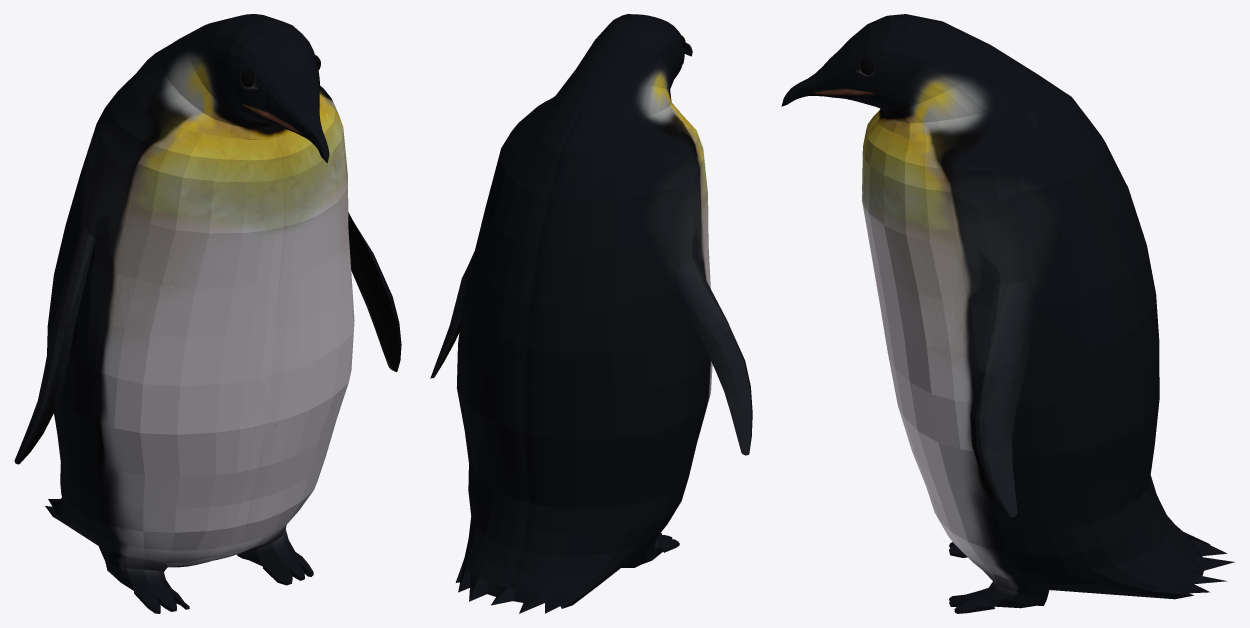
The model's file is Penguin-bl.obj.
3 views of the same model, side by side, from view 1: azimuth 30°, elevation 25°; view 2: azimuth 150°, elevation 25°; view 3: azimuth 270°, elevation 25° (orthographic). The views are drawn at different scales.
Parts seen in each view (by area): view 1: Penguin; view 2: Penguin; view 3: Penguin.
Boxes of the visible parts, x1,y1,x2,y2 form: Penguin: (14, 14, 401, 613); Penguin: (430, 14, 752, 613); Penguin: (781, 14, 1234, 613).
Size of the model in its own units: 0.803 by 1.19 by 0.8789.
Materials: 1 (1 with a texture image).
